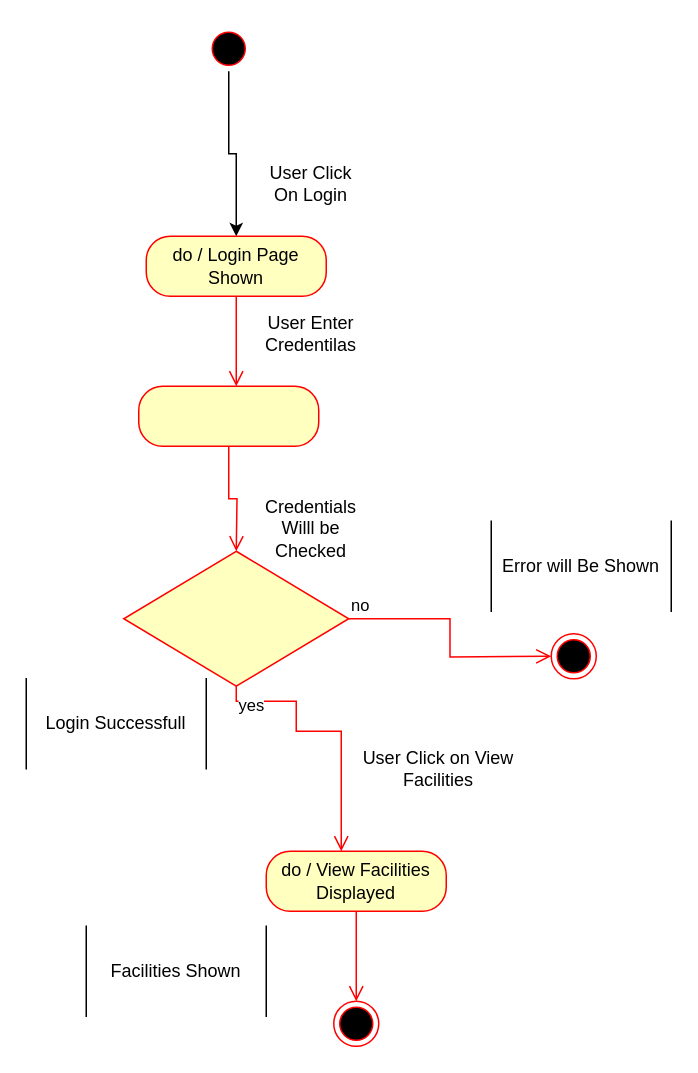
Image size: 698x1073. Some labels were removed from this diagram. The box of each missing label's shape, as (x1, y1, x2, y2) in pixels:
do / Credentials Checked By the System: (122, 550, 349, 686)
do / User Credentials Entered: (137, 385, 319, 446)
